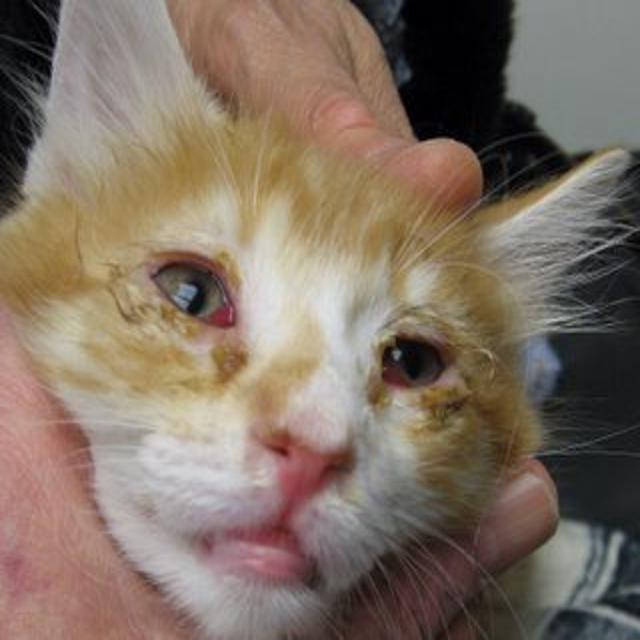eye_infection: (143, 254, 238, 344), (377, 330, 454, 397)
